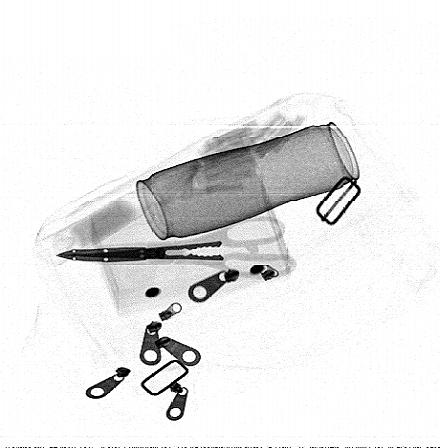Scissors: (55, 216, 297, 278)
